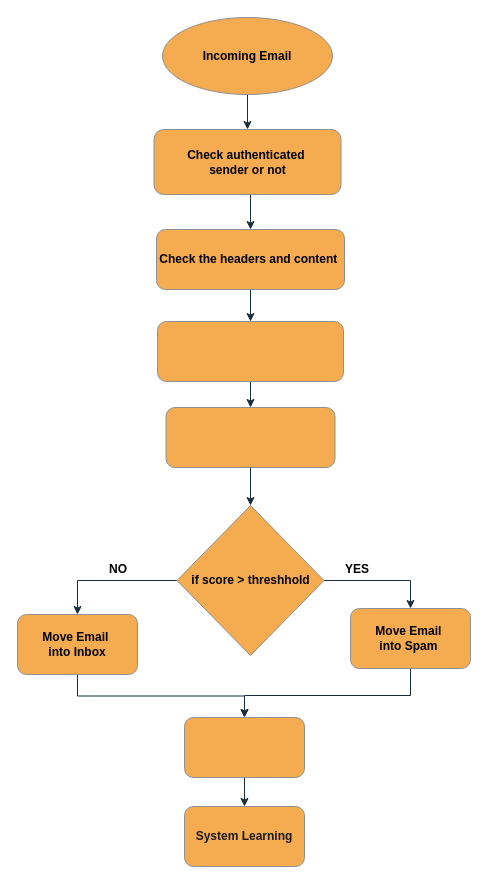
This 488x884 diagram has some shape labels left out. Here are the shapes that lost their labels. From the top down, the centre of each, then its label:
the point at 250,351: check for links and harmful files
the point at 250,437: calculate the score
the point at 244,747: User Feedback
